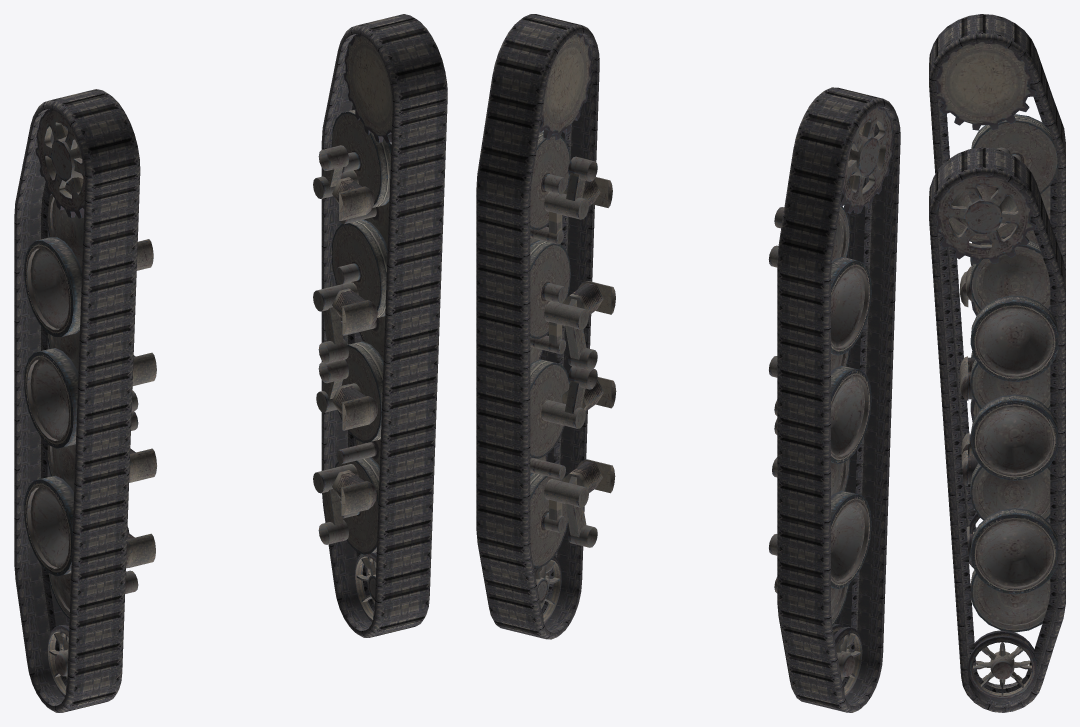
The model's file is Chassis.glb.
3 renders of one model, left to right at view 1: azimuth 30°, elevation 25°; view 2: azimuth 150°, elevation 25°; view 3: azimuth 270°, elevation 25°, orthographic. The views are drawn at different scales.
Visible parts, largest first — view 1: set_3_group_0, set_2_group_0, set_0_group_0, set_1_group_0; view 2: set_3_group_0, set_2_group_0, set_0_group_0, set_1_group_0; view 3: set_0_group_0, set_2_group_0, set_1_group_0, set_3_group_0.
Part boxes in pixels (bbox=[...]): set_3_group_0: bbox=[14, 89, 140, 712]; set_2_group_0: bbox=[321, 14, 447, 637]; set_0_group_0: bbox=[313, 34, 392, 621]; set_1_group_0: bbox=[24, 109, 156, 696]; set_3_group_0: bbox=[777, 87, 900, 712]; set_2_group_0: bbox=[476, 14, 599, 639]; set_0_group_0: bbox=[530, 33, 616, 623]; set_1_group_0: bbox=[768, 107, 892, 697]; set_0_group_0: bbox=[936, 175, 1058, 699]; set_2_group_0: bbox=[929, 147, 1065, 712]; set_1_group_0: bbox=[936, 42, 1058, 533]; set_3_group_0: bbox=[929, 14, 1065, 567].
Size of the model in its own units: 3.01 by 4.89 by 1.11.
4 materials, 4 textured.
